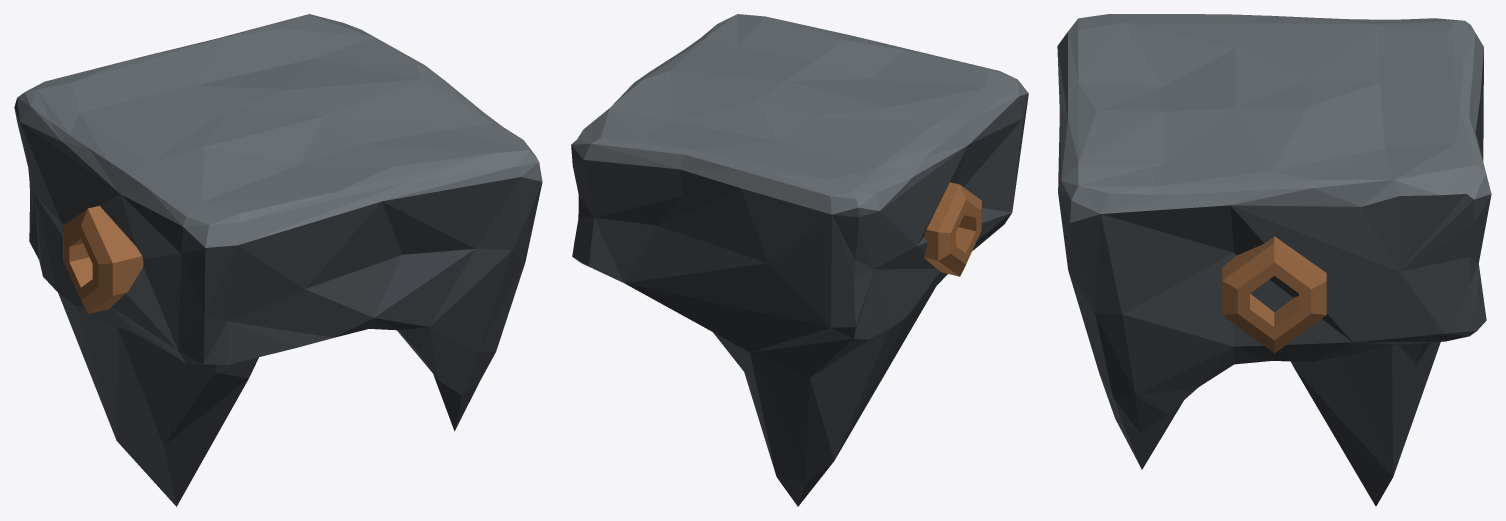
The model's file is geo_horiz_movPlat_2x2.fbx.
3 views of the same model, side by side, from view 1: azimuth 30°, elevation 25°; view 2: azimuth 150°, elevation 25°; view 3: azimuth 270°, elevation 25° (orthographic). The views are drawn at different scales.
Visible parts, largest first — view 1: geo_horiz_movPlat_2x2; view 2: geo_horiz_movPlat_2x2; view 3: geo_horiz_movPlat_2x2.
Boxes of the visible parts, x1=… form: geo_horiz_movPlat_2x2: x1=14, y1=14, x2=542, y2=506; geo_horiz_movPlat_2x2: x1=571, y1=14, x2=1028, y2=506; geo_horiz_movPlat_2x2: x1=1057, y1=14, x2=1491, y2=506.
Size of the model in its own units: 2.17 by 2.25 by 2.01.
